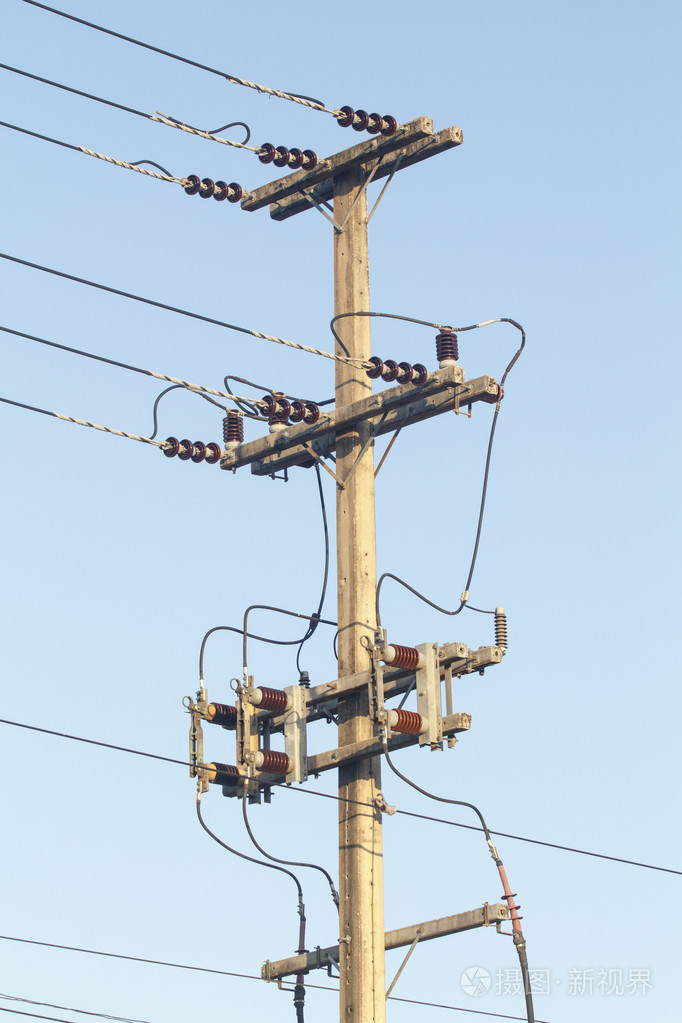insulator: (366, 356, 425, 387), (158, 437, 221, 466), (261, 394, 318, 423), (184, 173, 241, 201), (338, 108, 399, 133), (259, 145, 315, 170)
